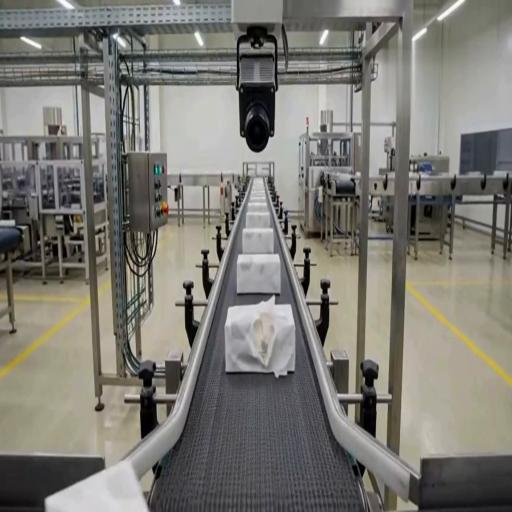defective: (224, 297, 297, 375)
good: (45, 458, 152, 511), (236, 253, 282, 296), (241, 227, 275, 254), (244, 210, 271, 230), (246, 201, 269, 214)
